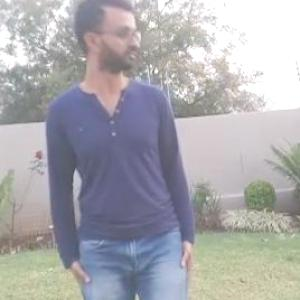follow: (48, 0, 204, 299), (183, 4, 300, 299)
